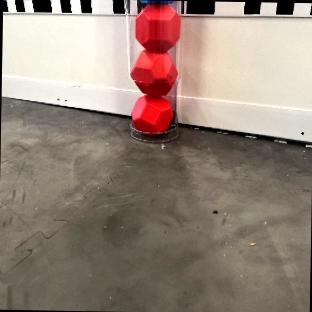V5_RED: (130, 47, 177, 98), (135, 2, 180, 51), (131, 93, 173, 133)
